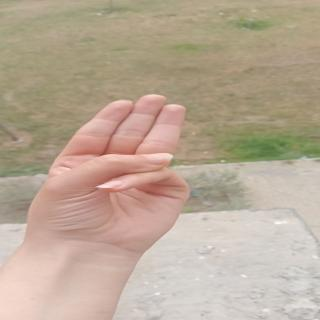THA: (17, 75, 239, 259)
